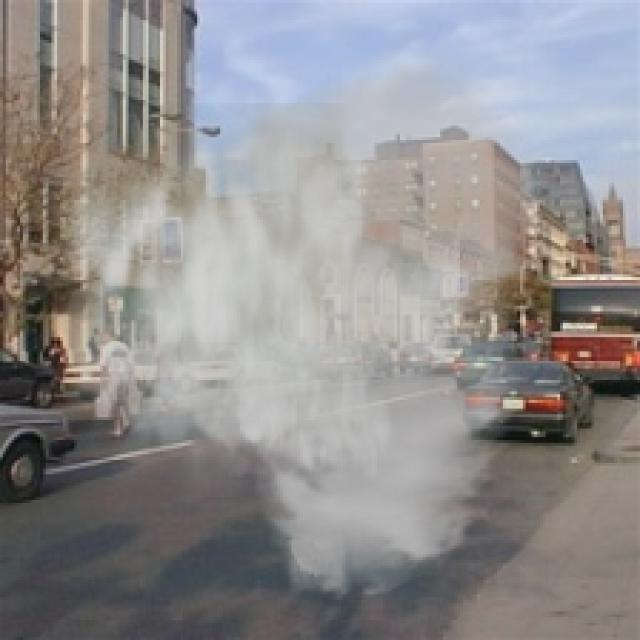Smoke: (31, 48, 546, 603)
